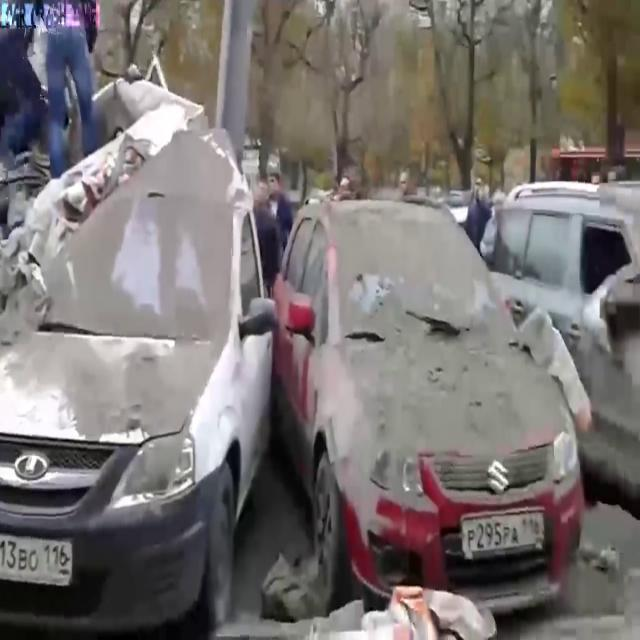Accident: (286, 130, 602, 610)
